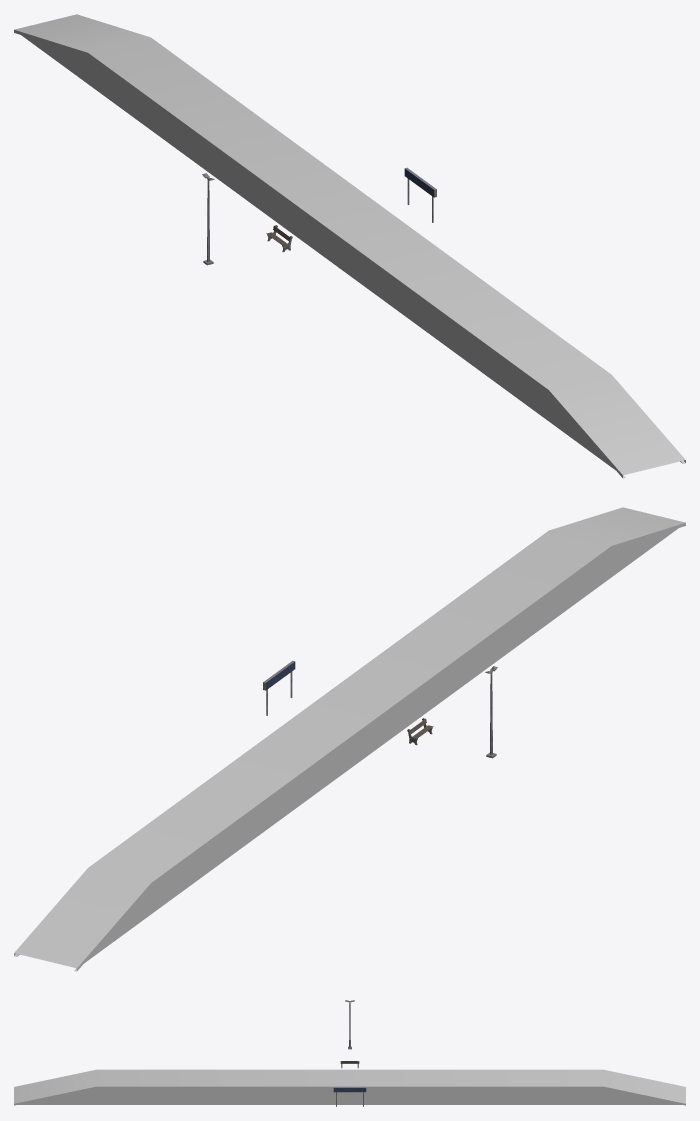
The model's file is pj_platforms.fbx.
3 views of the same model, one above another, from view 1: azimuth 30°, elevation 25°; view 2: azimuth 150°, elevation 25°; view 3: azimuth 270°, elevation 25° (orthographic). The views are drawn at different scales.
Parts seen in each view (by area): view 1: RuralPlatform; view 2: RuralPlatform; view 3: RuralPlatform, RuralSignPost.
Boxes of the visible parts, left/top/right/bottom form: RuralPlatform: left=14, top=14, right=685, bottom=478; RuralPlatform: left=14, top=507, right=685, bottom=971; RuralPlatform: left=14, top=1069, right=685, bottom=1105; RuralSignPost: left=333, top=1087, right=366, bottom=1106.
Size of the model in its own units: 1532 by 719 by 7457.
